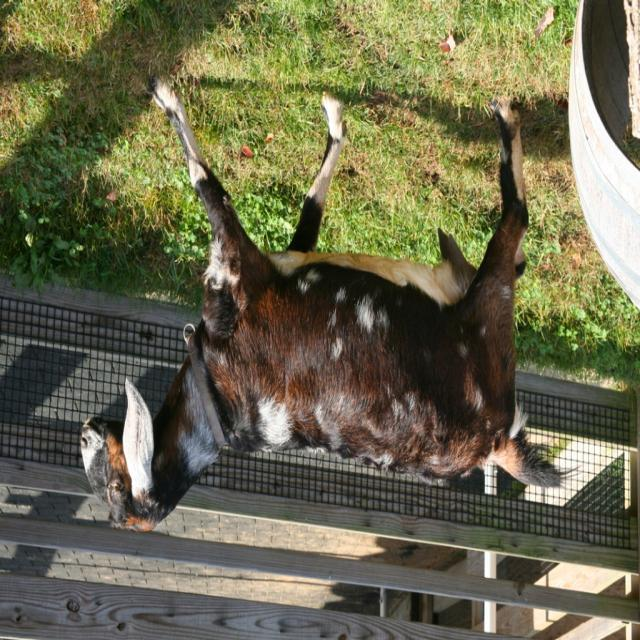Goat: (80, 72, 579, 535)
